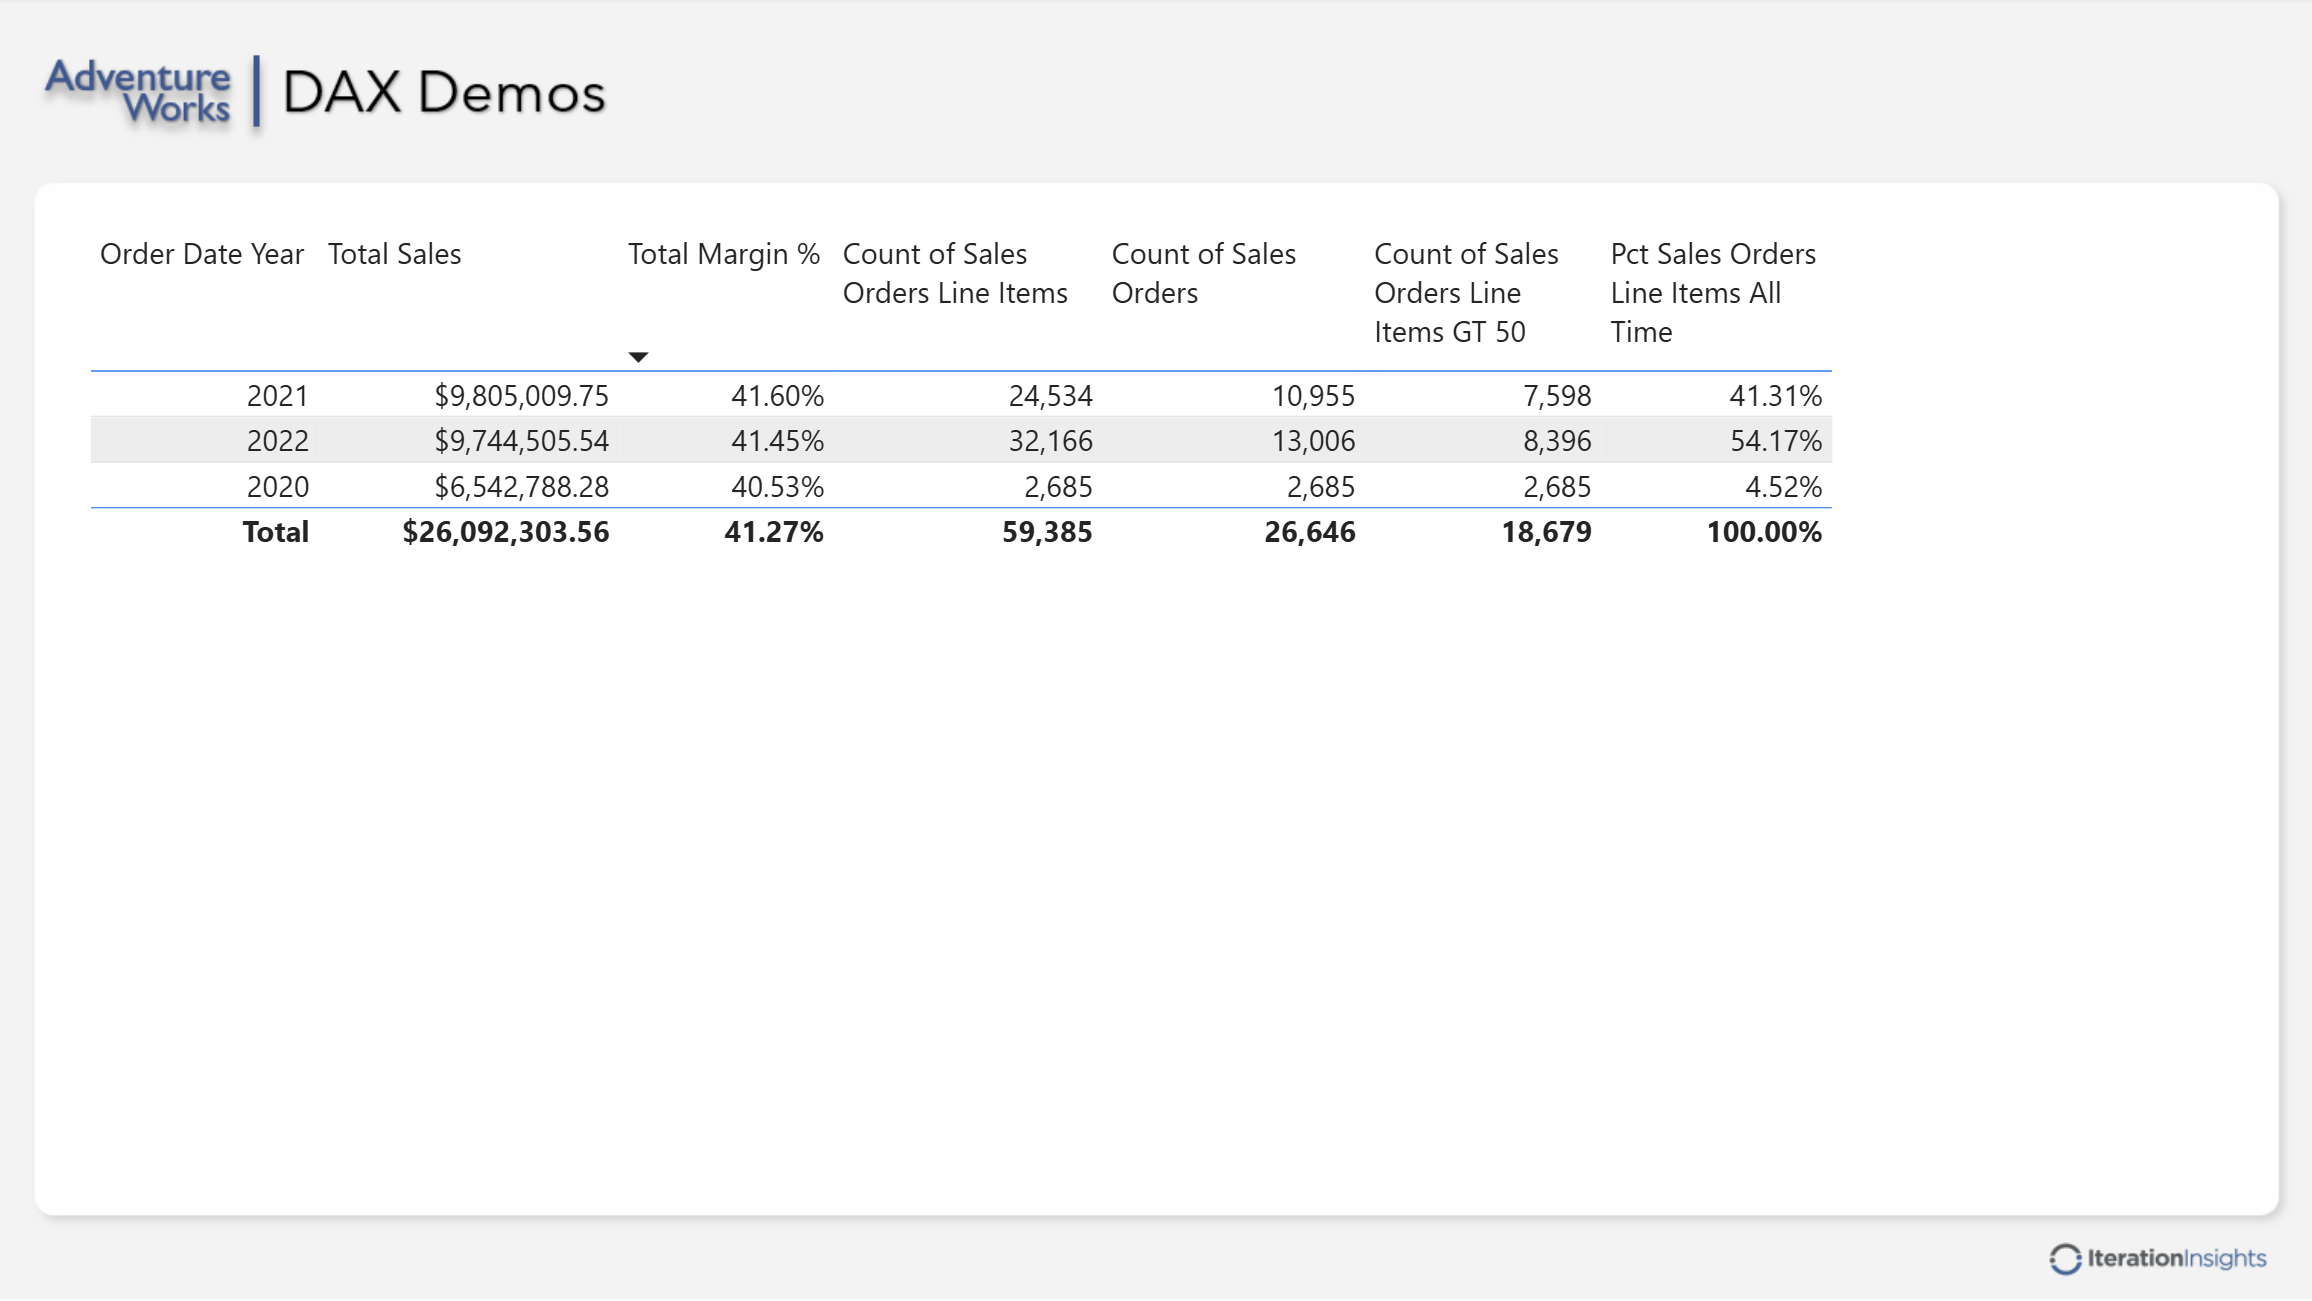

What the dashboard file says about the page in this screenshot:
{"tool":"powerbi","page":{"name":"DAX Demos","canvas":[1280,720],"ordinal":1},"visuals":[{"type":"tableEx","fields":{"Values":["Order Date.Order Date Year","Sales.Total Sales","Sales.Total Margin %","Sales.Count of Sales orders Line Items","Sales.Count of Sales Orders","Sales.Count of Sales Orders Line Items GT 50","Sales.Pct Sales Orders Line Items All Time"]},"box":[48.6,124.3,1182.9,320],"z":0}]}

Visuals, with their boxes in screenshot pixels (x1, y1, x2, y2), scaled from the page's 1280x720 canvas onto the 2312x1301 screenshot:
tableEx - Order Date.Order Date Year x Sales.Total Sales: [left=88, top=225, right=2224, bottom=803]
